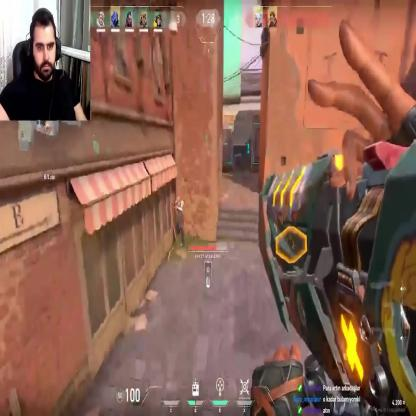enemy: (173, 193, 184, 245)
enemy_head: (176, 195, 180, 203)
